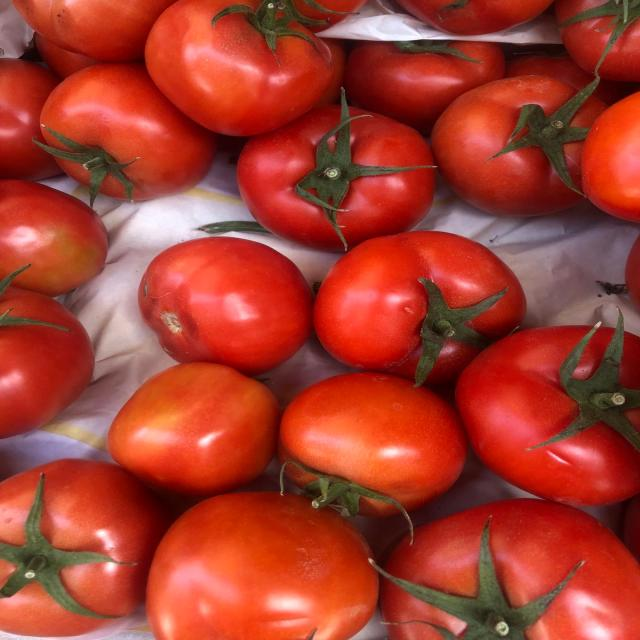tomato: (432, 303, 640, 509), (303, 218, 549, 388), (135, 481, 397, 640), (370, 489, 640, 640), (254, 355, 486, 528), (0, 460, 200, 640), (421, 61, 640, 219), (231, 96, 448, 254), (18, 52, 230, 200), (123, 226, 328, 379)
